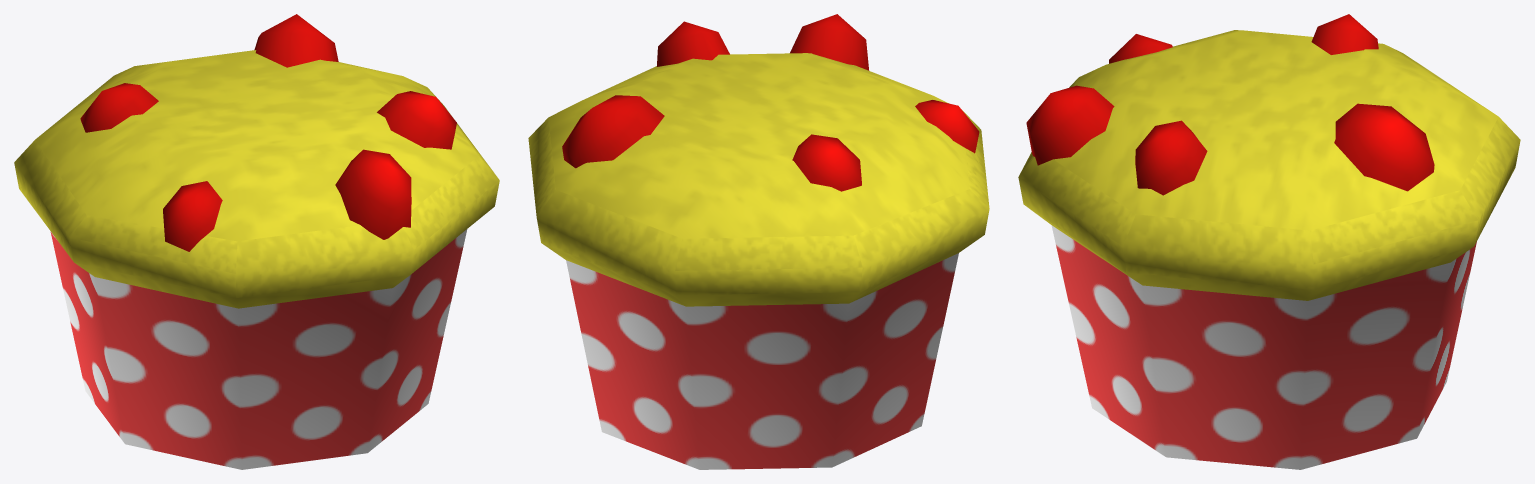
The model's file is Muffin_B_01.FBX.
3 renders of one model, left to right at view 1: azimuth 30°, elevation 25°; view 2: azimuth 150°, elevation 25°; view 3: azimuth 270°, elevation 25°, orthographic. The views are drawn at different scales.
Parts seen in each view (by area): view 1: Muffin; view 2: Muffin; view 3: Muffin.
Boxes of the visible parts, bbox=[...] form: Muffin: bbox=[14, 14, 499, 469]; Muffin: bbox=[528, 14, 989, 469]; Muffin: bbox=[1018, 14, 1520, 469].
Bounding box in the file's own units: 36.61 × 26.52 × 36.61.
